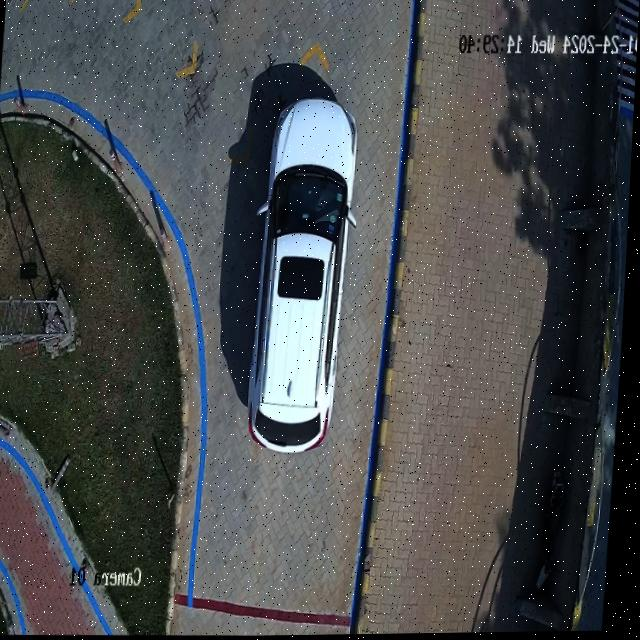car: (252, 98, 358, 453)
